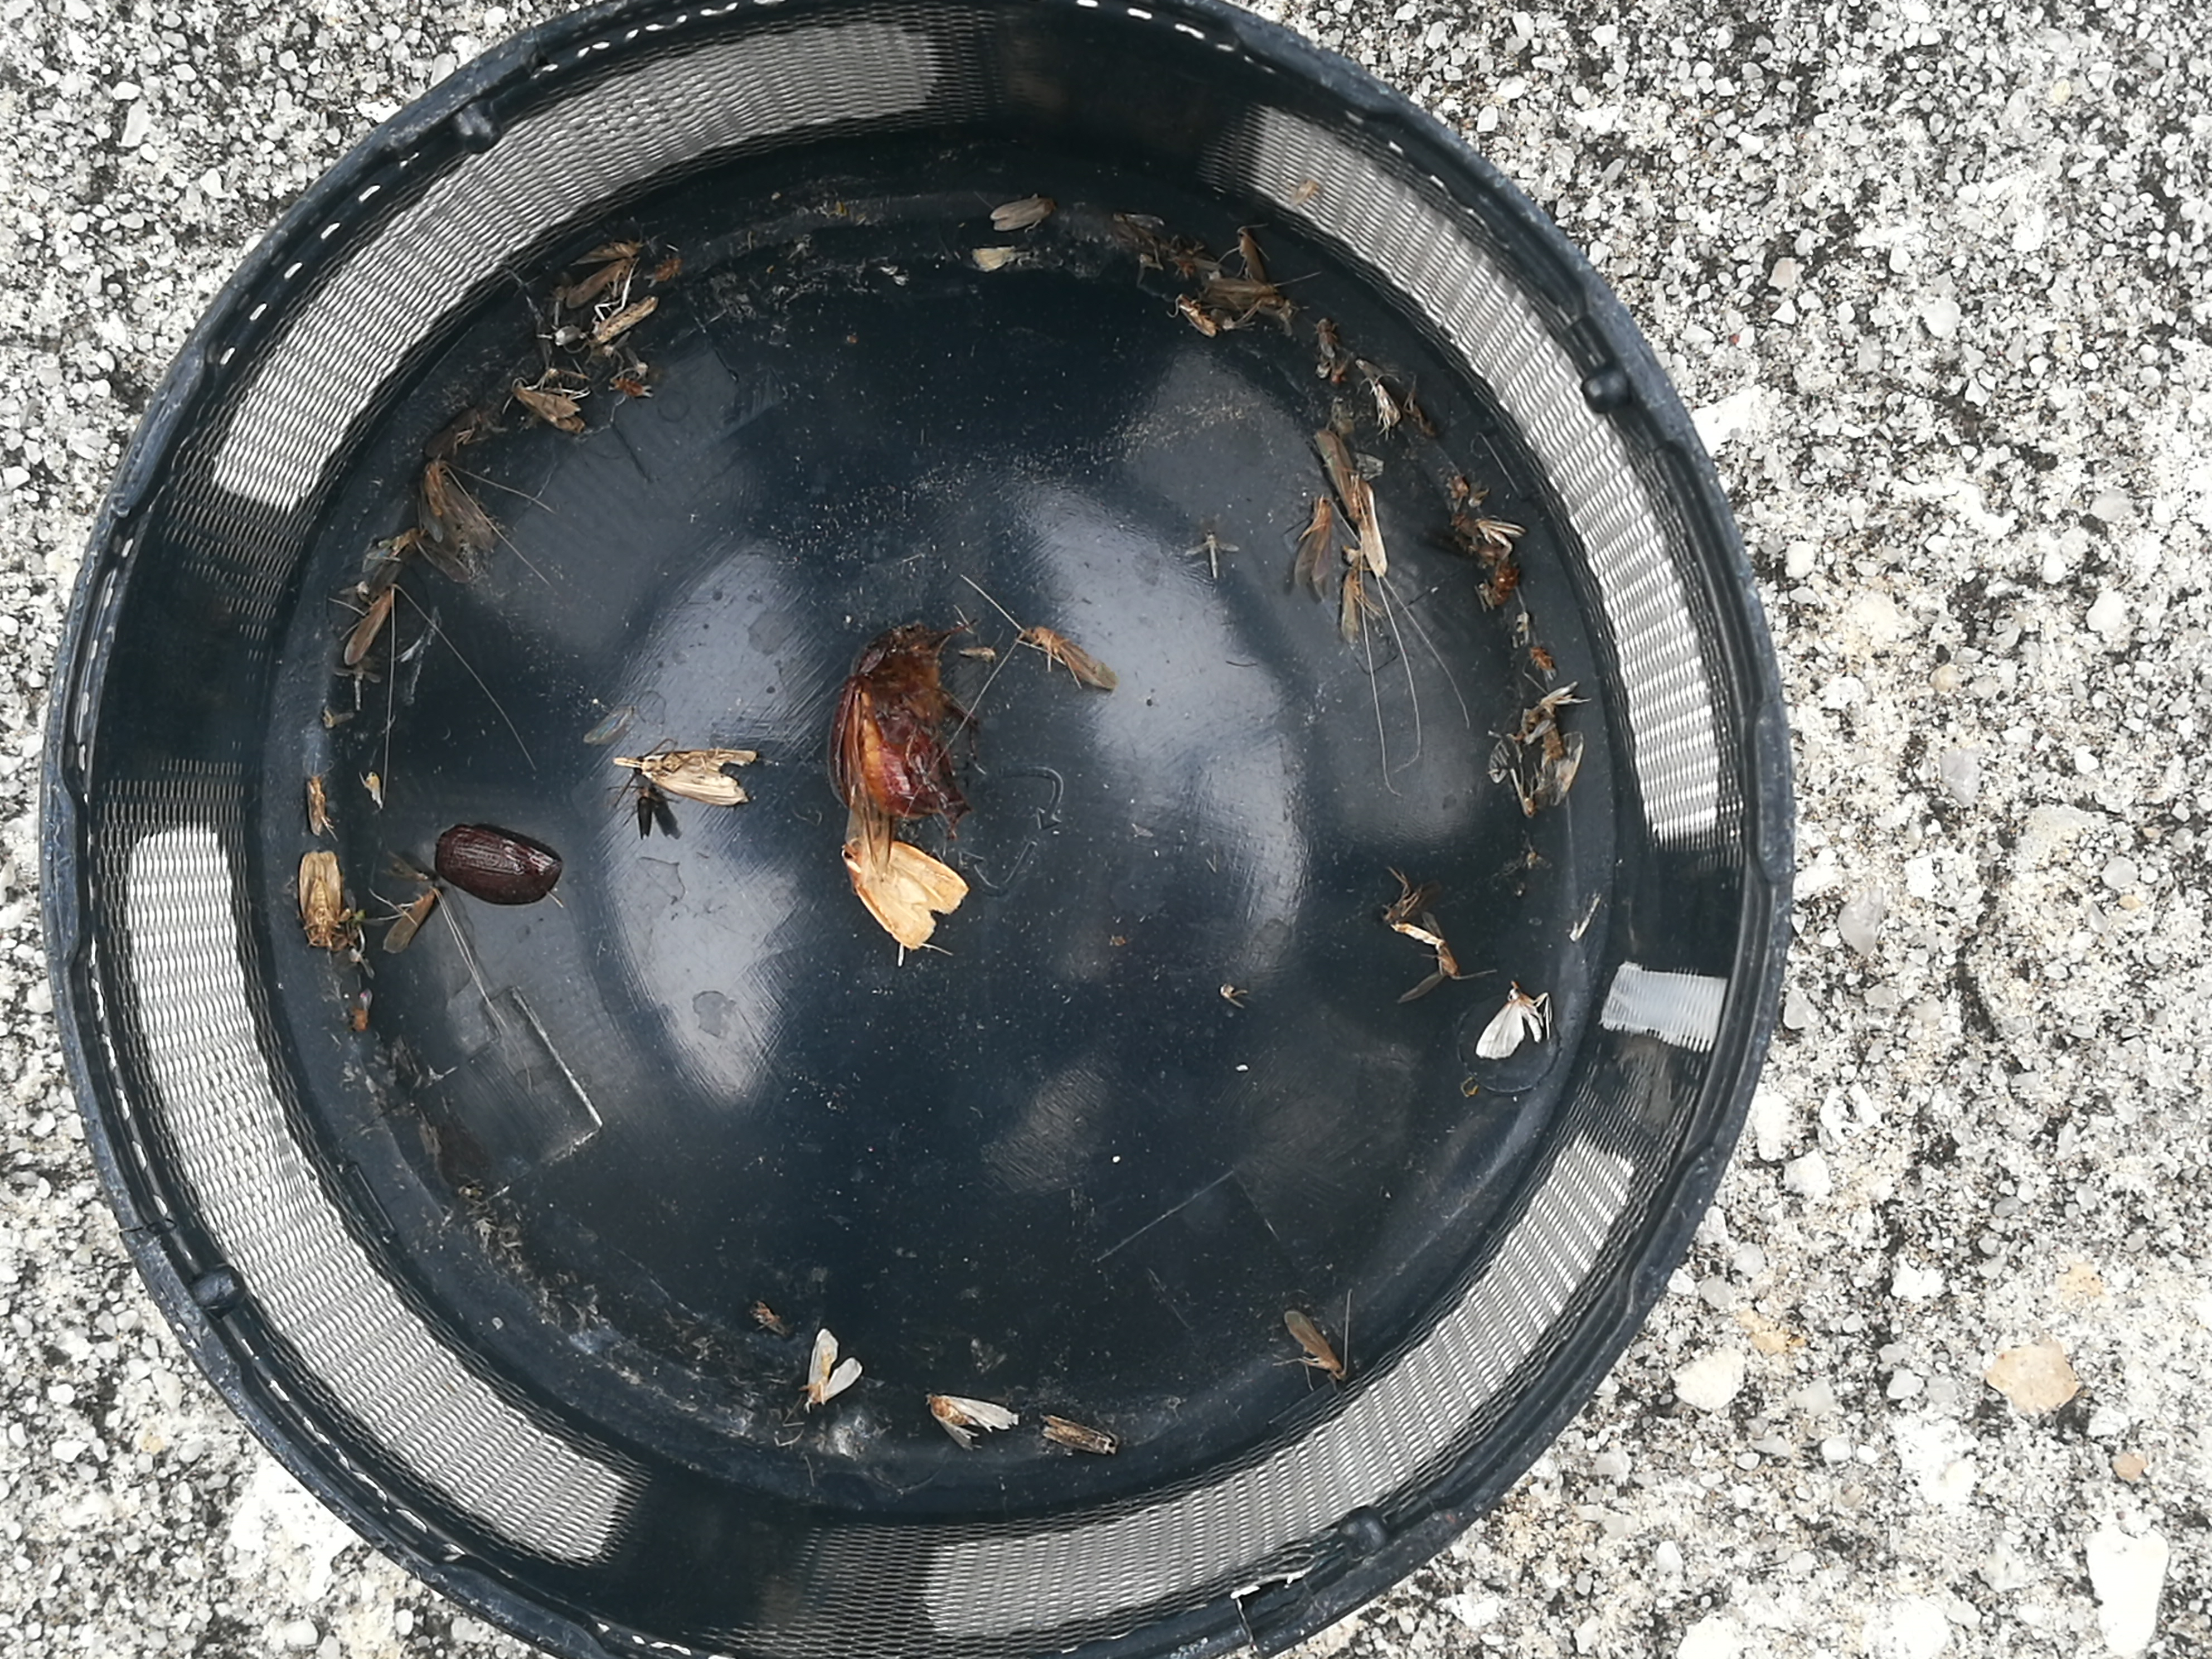beetle: (848, 650, 949, 817)
mosquito: (1282, 1307, 1343, 1384), (1312, 429, 1360, 523), (343, 586, 397, 664), (512, 383, 587, 436), (383, 887, 439, 951), (1296, 497, 1329, 591), (592, 300, 660, 343), (1043, 1417, 1116, 1455), (1357, 483, 1386, 577), (570, 260, 624, 305), (1205, 281, 1278, 303), (1177, 298, 1219, 336), (1341, 563, 1360, 640), (1238, 225, 1263, 281), (308, 775, 326, 836)
moth: (846, 840, 968, 946), (643, 748, 758, 805), (420, 465, 491, 542), (928, 1392, 1015, 1448), (1475, 990, 1547, 1058), (805, 1328, 864, 1408), (300, 852, 338, 945), (989, 192, 1054, 230)
